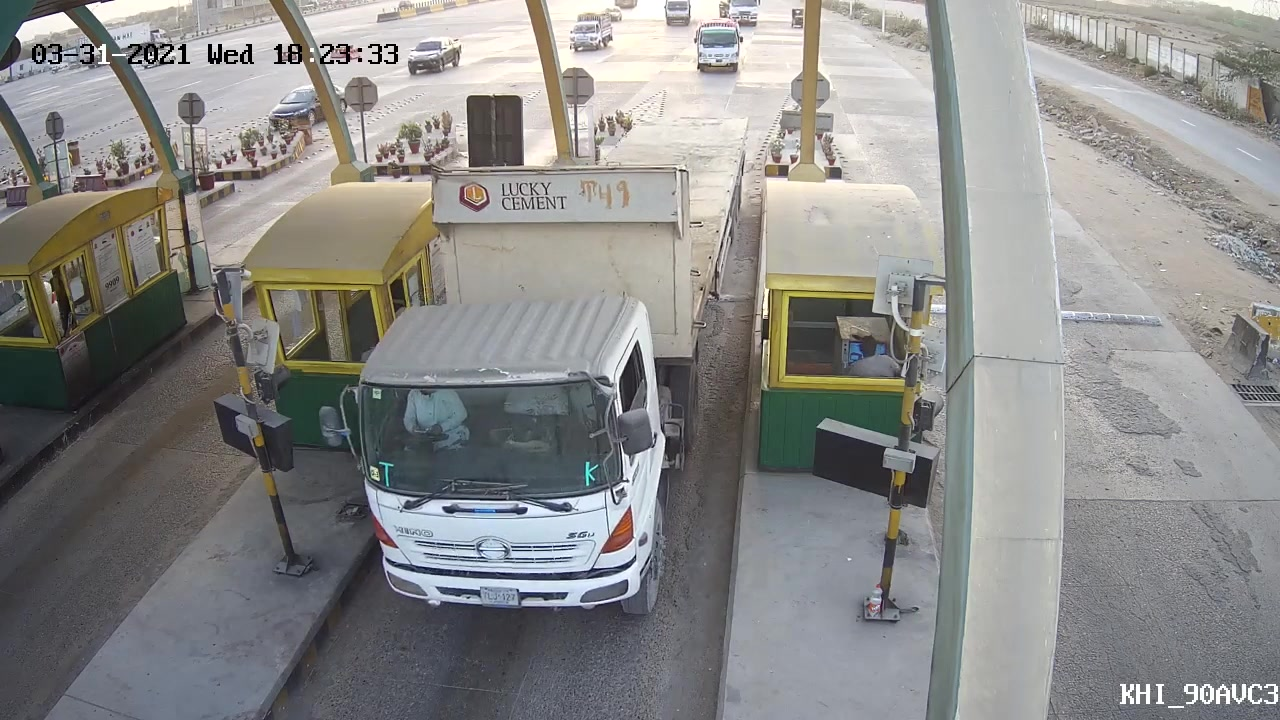F6: (316, 97, 756, 623)
